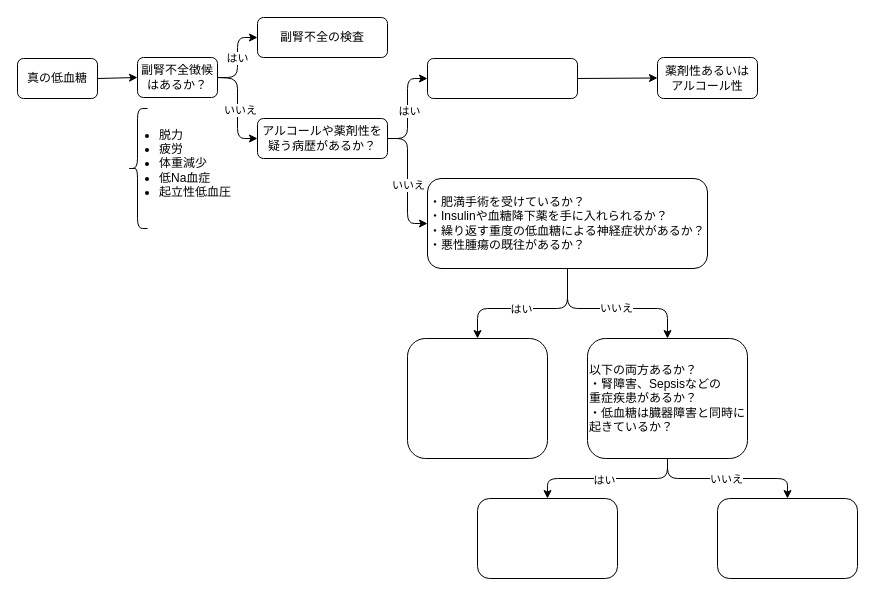
This 875x596 diagram has some shape labels left out. Each missing label, with the box of its shape:
・内因性低血糖 ・詐病 の可能性あり →専門家にreferし 低血糖誘発試験: (716, 498, 858, 578)
・詐病 ・内因性の高Insulin血症 ・NICTH の可能性あり →専門家にreferし 低血糖誘発試験: (406, 338, 548, 458)
薬剤やアルコールの除去: (426, 58, 578, 98)
重症患者関連の低血糖 さらなる検査は不要: (476, 498, 618, 578)
